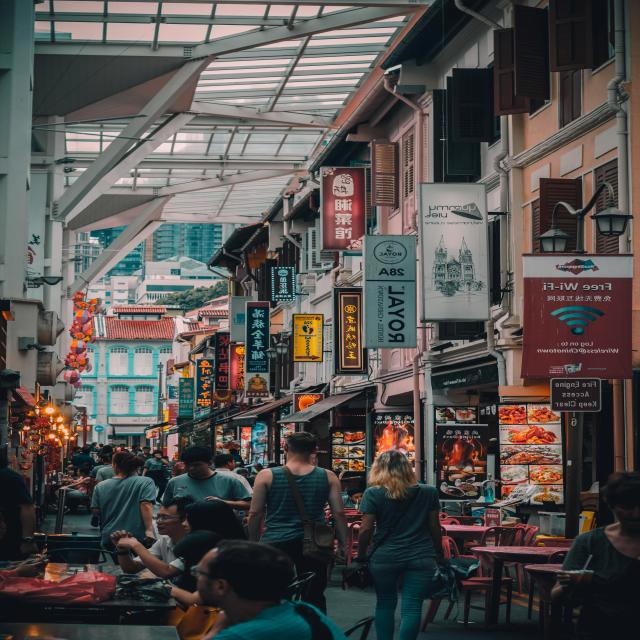adult: (245, 428, 349, 606), (349, 451, 440, 640), (178, 540, 339, 640), (158, 443, 245, 550), (87, 452, 163, 560)
